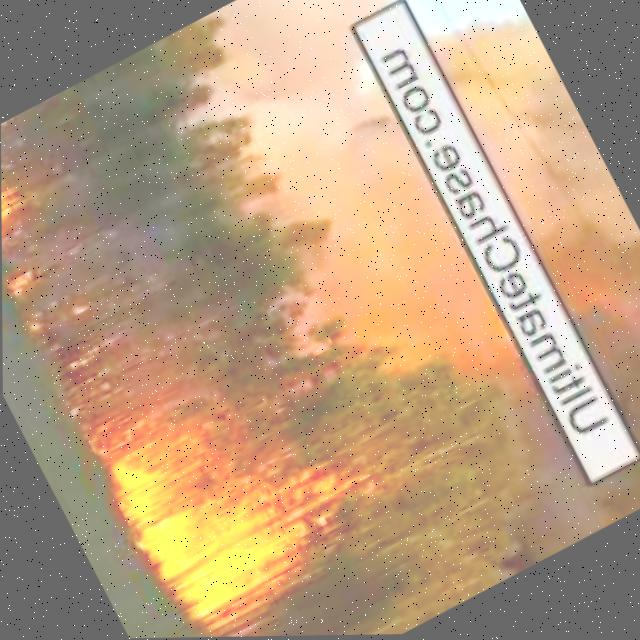Fire: (90, 386, 340, 639), (67, 373, 144, 448), (1, 161, 32, 240), (9, 272, 40, 302)
Smoke: (191, 0, 609, 595), (423, 0, 640, 501)
